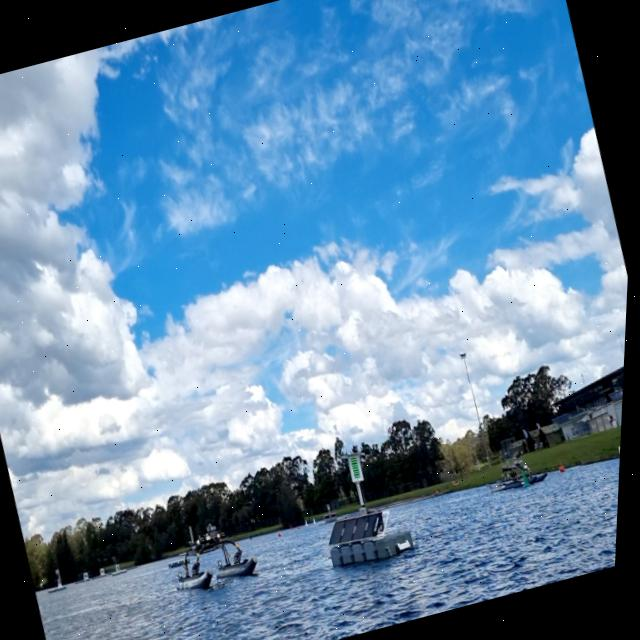led: (351, 454, 368, 480)
